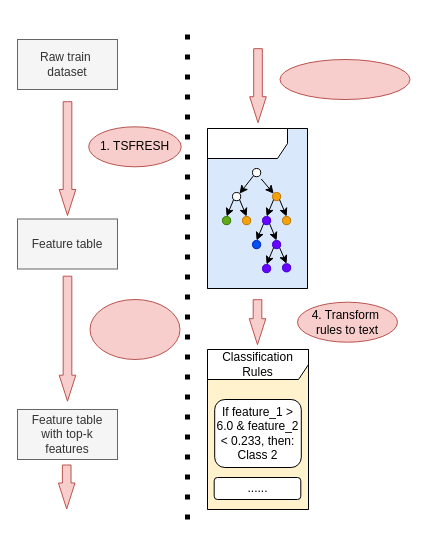
This 428x540 diagram has some shape labels left out. The shapes that lost their labels are listed below. From the top down, each one's centre as x and y in pixels, then its label:
the point at 344,79: 3. Classify by decision tree
the point at 257,208: Decision Tree
the point at 134,329: 2. Rank feature importance
